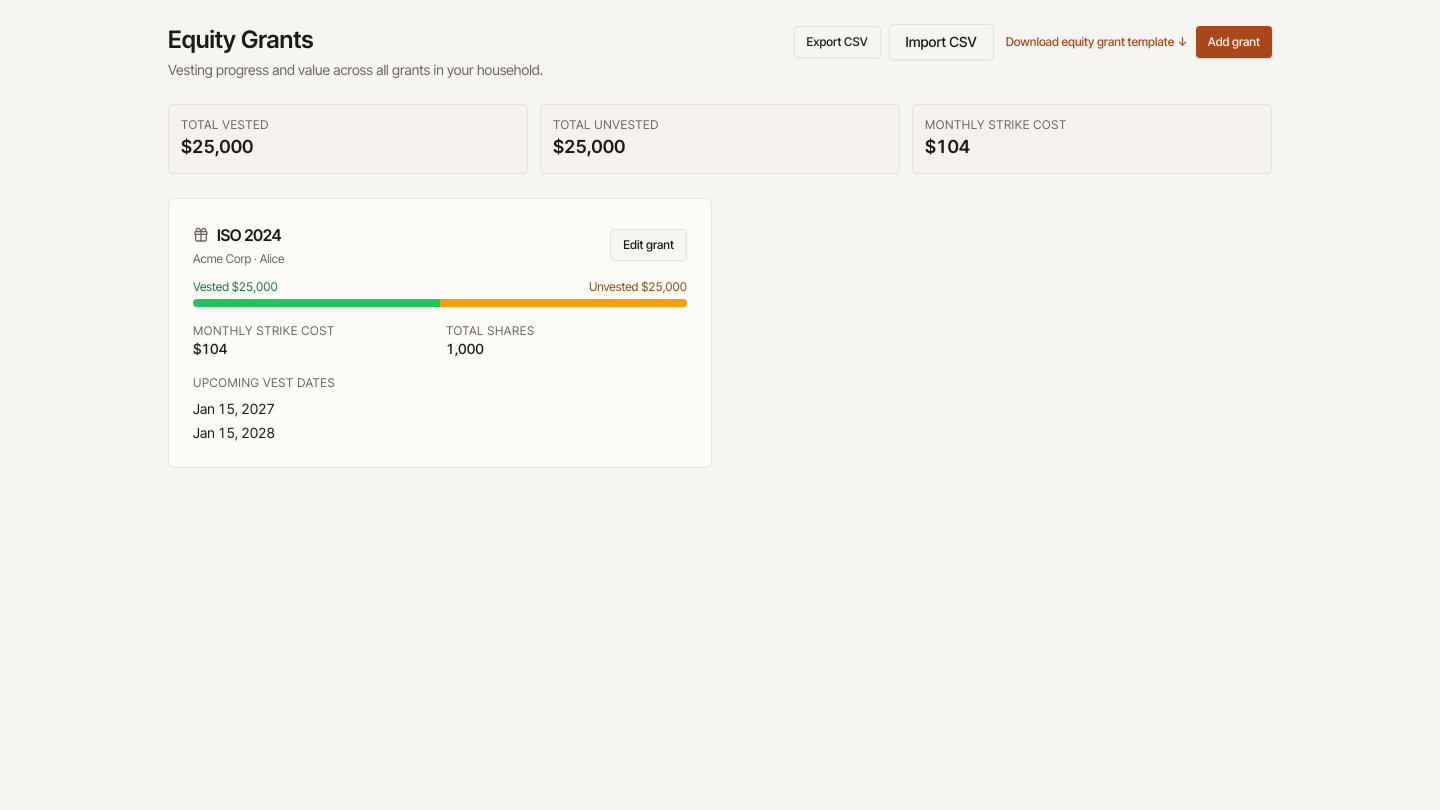
it: EquityGrants page › drawer delete confirms with the tab's exact copy (W14)
Click the button with aria-label "edit grant iso 2024": (649,245) x1=610 y1=229 x2=687 y2=261
(page scrolled)
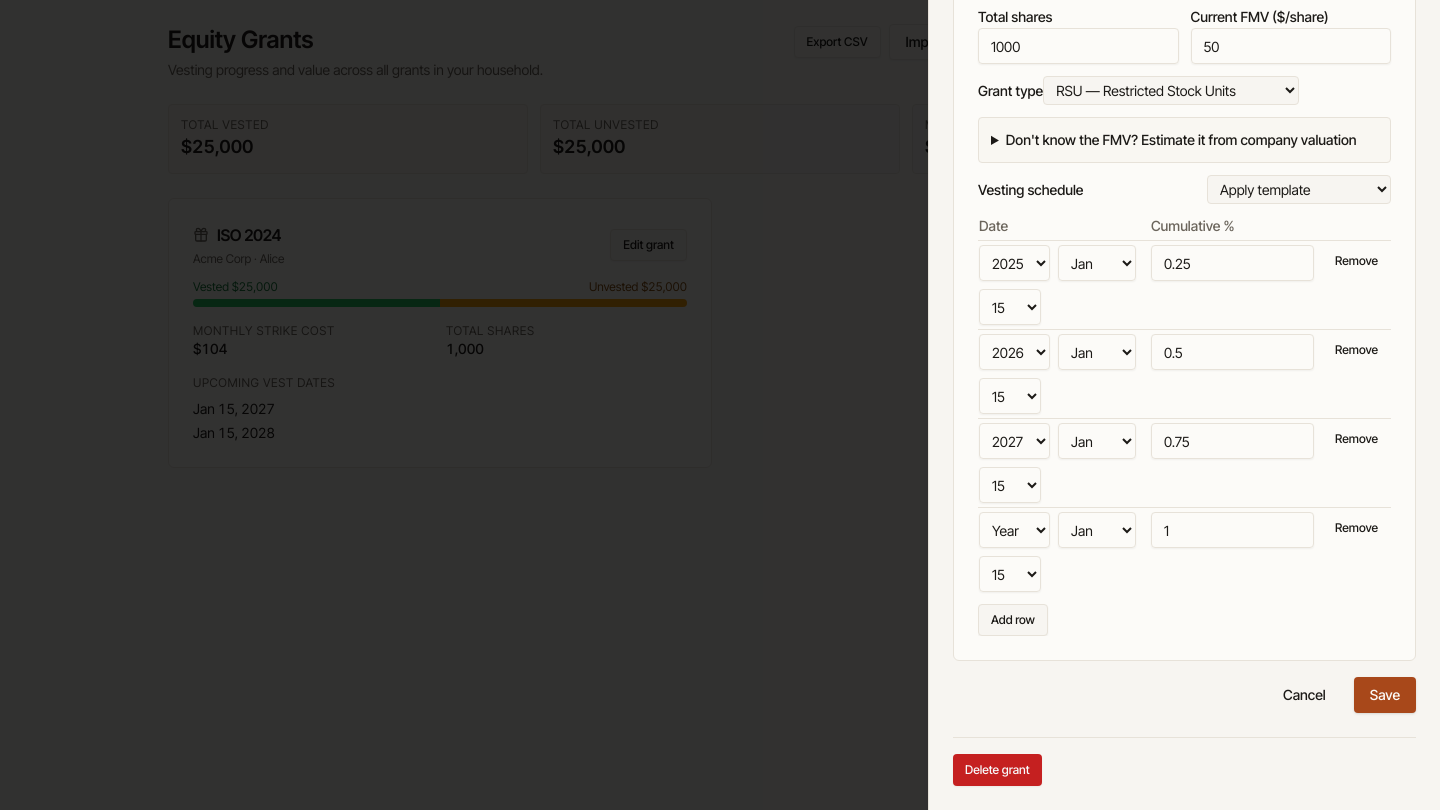
Click the button "Delete grant": (997,770) x1=953 y1=754 x2=1042 y2=786
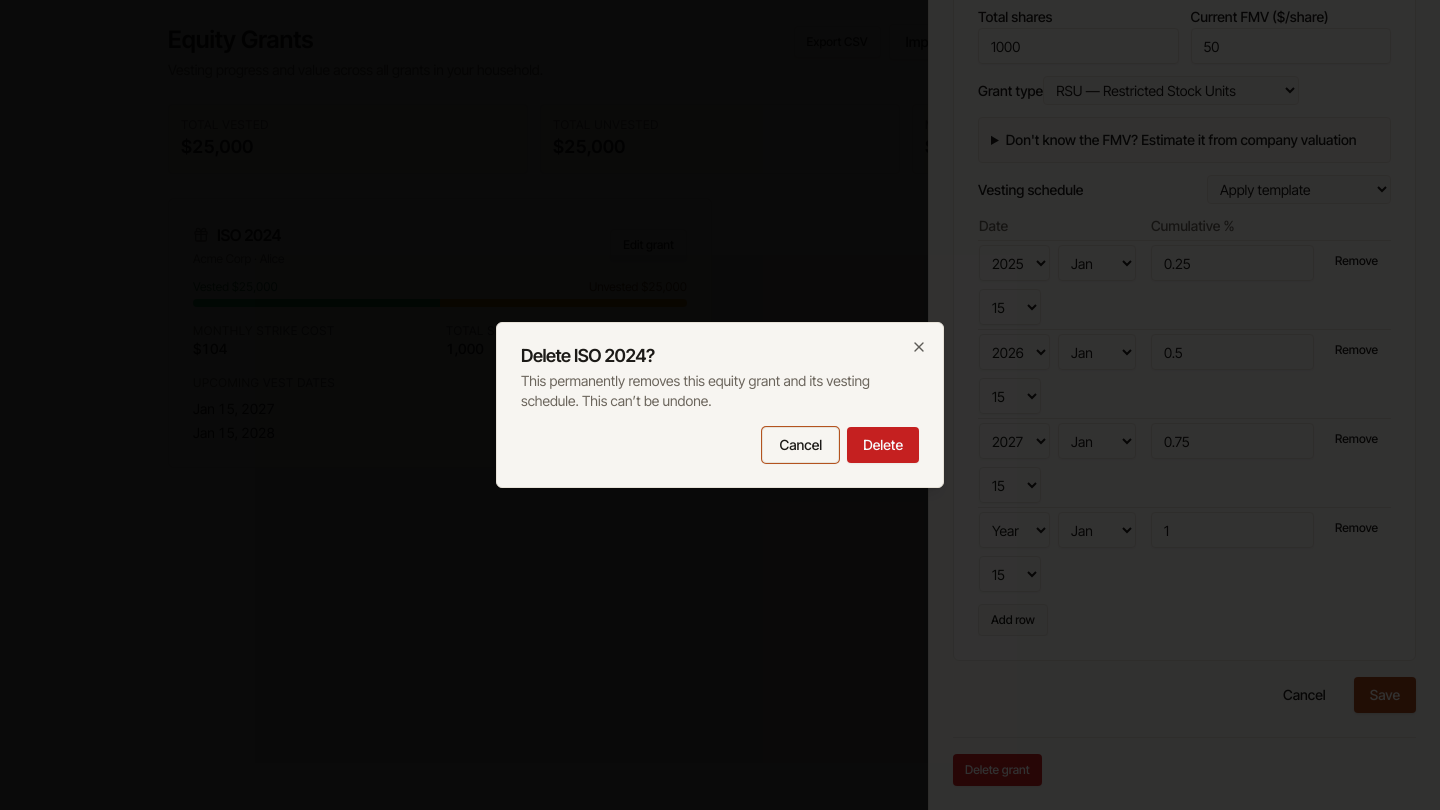
Expected: the text "permanently removes this equity grant and its vesting schedule" is shown, x1=521 y1=372 x2=870 y2=409
